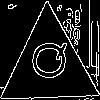Q: (24, 40, 69, 81)
